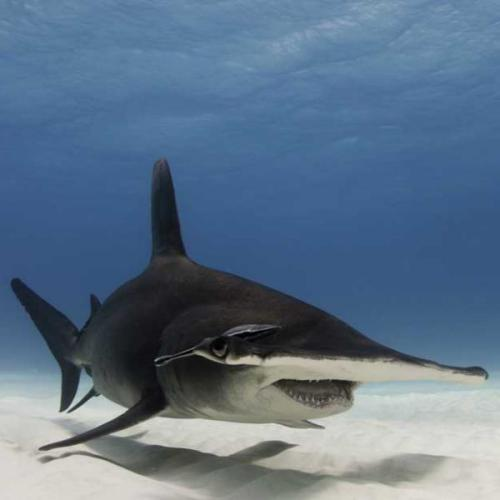shark-endangered: (11, 156, 490, 452)
